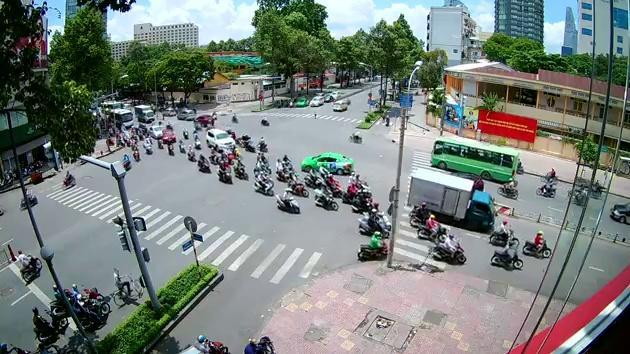xe buyt: (429, 139, 519, 182)
xe hoi: (299, 150, 353, 173), (205, 128, 236, 149)
xe may: (355, 229, 387, 261), (432, 232, 465, 263), (490, 238, 523, 269), (358, 206, 389, 238), (416, 212, 447, 242), (488, 219, 520, 247), (520, 230, 551, 258), (17, 248, 42, 281), (273, 188, 300, 213), (251, 169, 273, 195)
xe tai: (405, 168, 496, 228)
